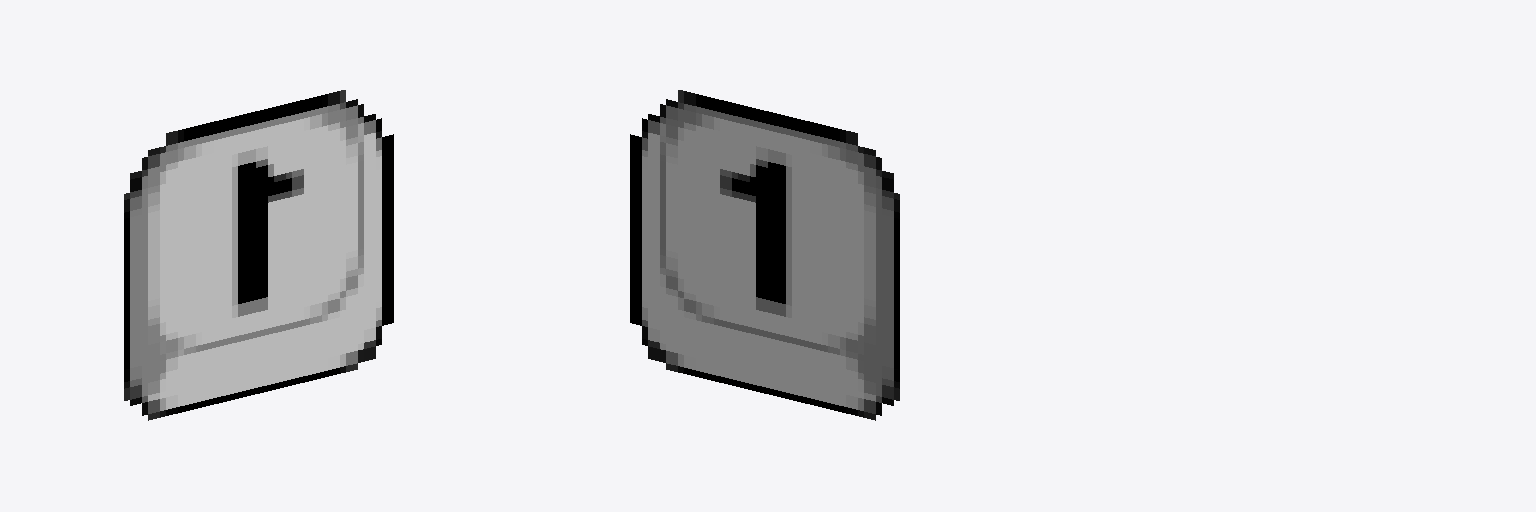
3 renders of one model, left to right at view 1: azimuth 30°, elevation 25°; view 2: azimuth 150°, elevation 25°; view 3: azimuth 270°, elevation 25°, orthographic.
Parts seen in each view (by area): view 1: Stage4; view 2: Stage4; view 3: none.
Boxes of the visible parts, x1=… form: Stage4: x1=124, y1=90, x2=393, y2=420; Stage4: x1=630, y1=90, x2=899, y2=420.
Bounding box in the file's own units: 1 × 1 × 0.
Materials: 1 (1 with a texture image).